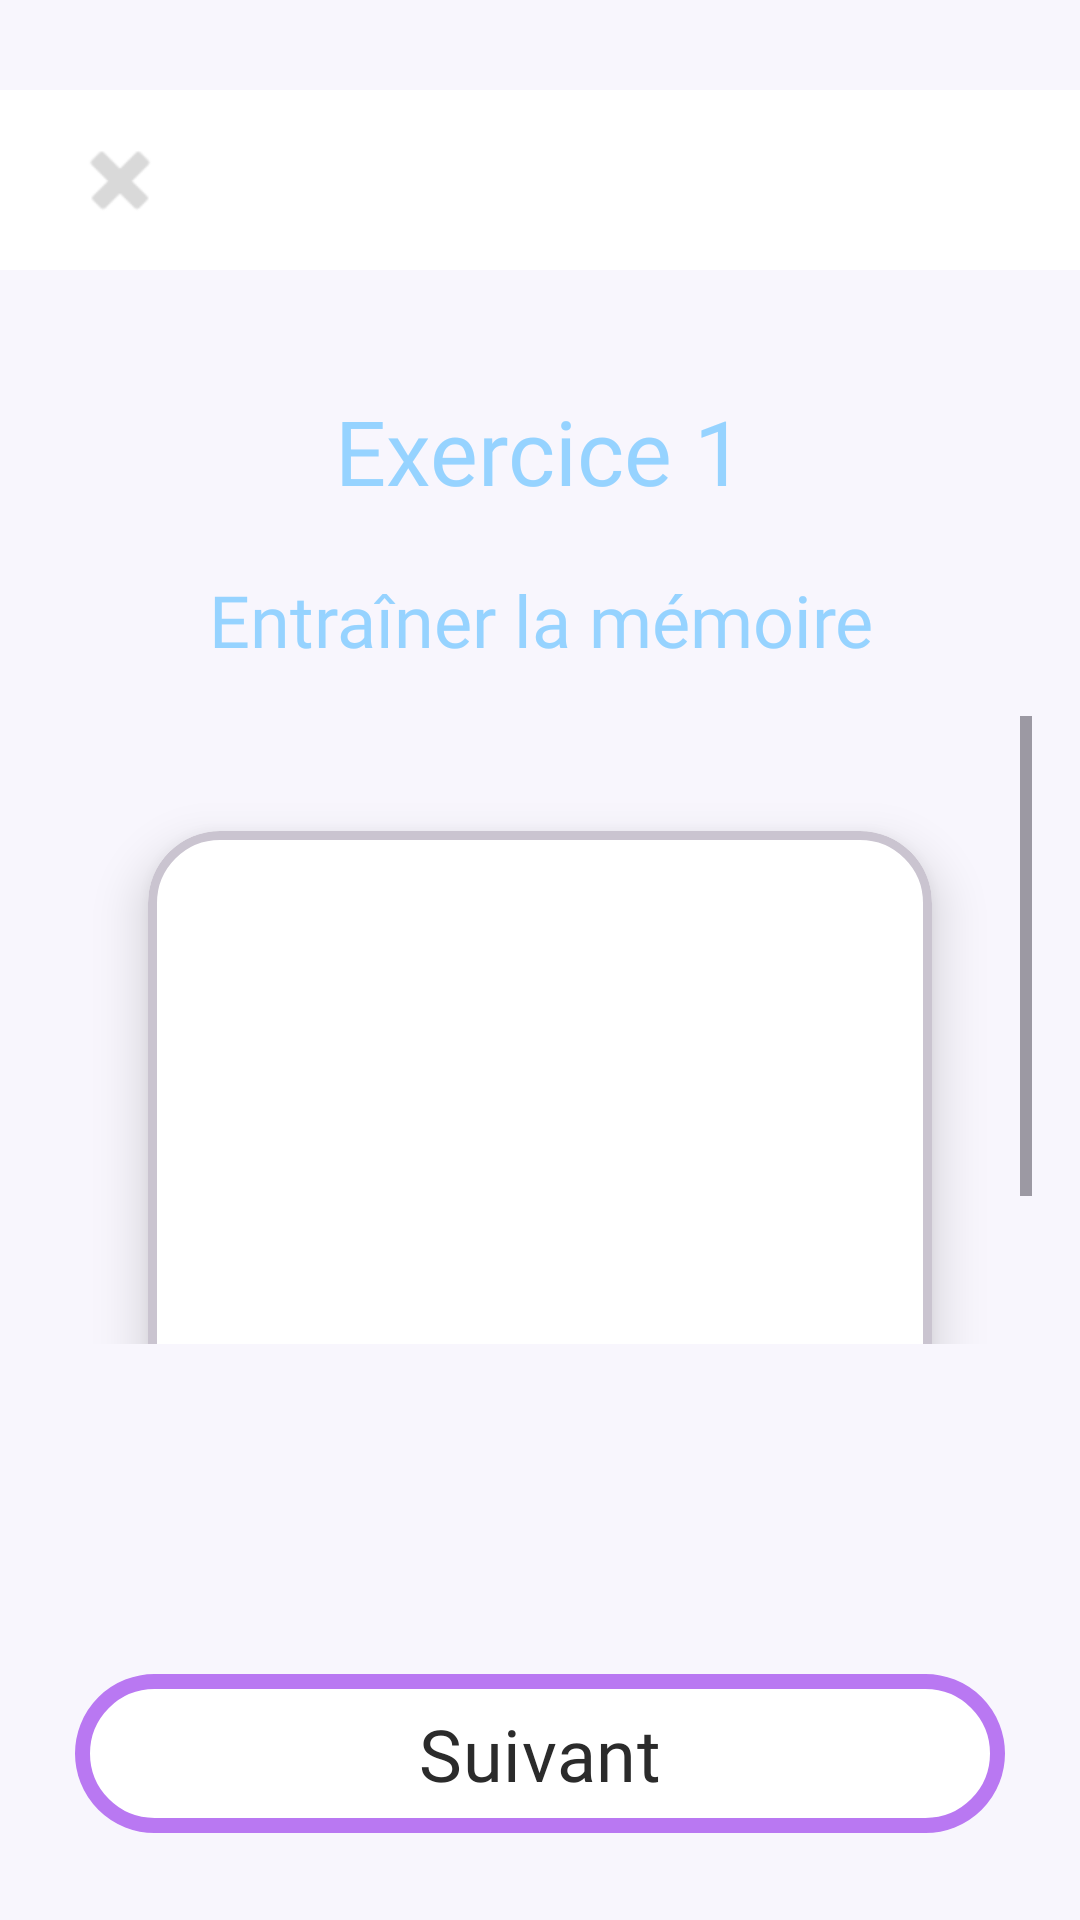

Screen size 1080×1920. Icon name, then its box in pixels as (x1, y1, x2, y2):
Cerrar: (91, 152, 149, 208)
